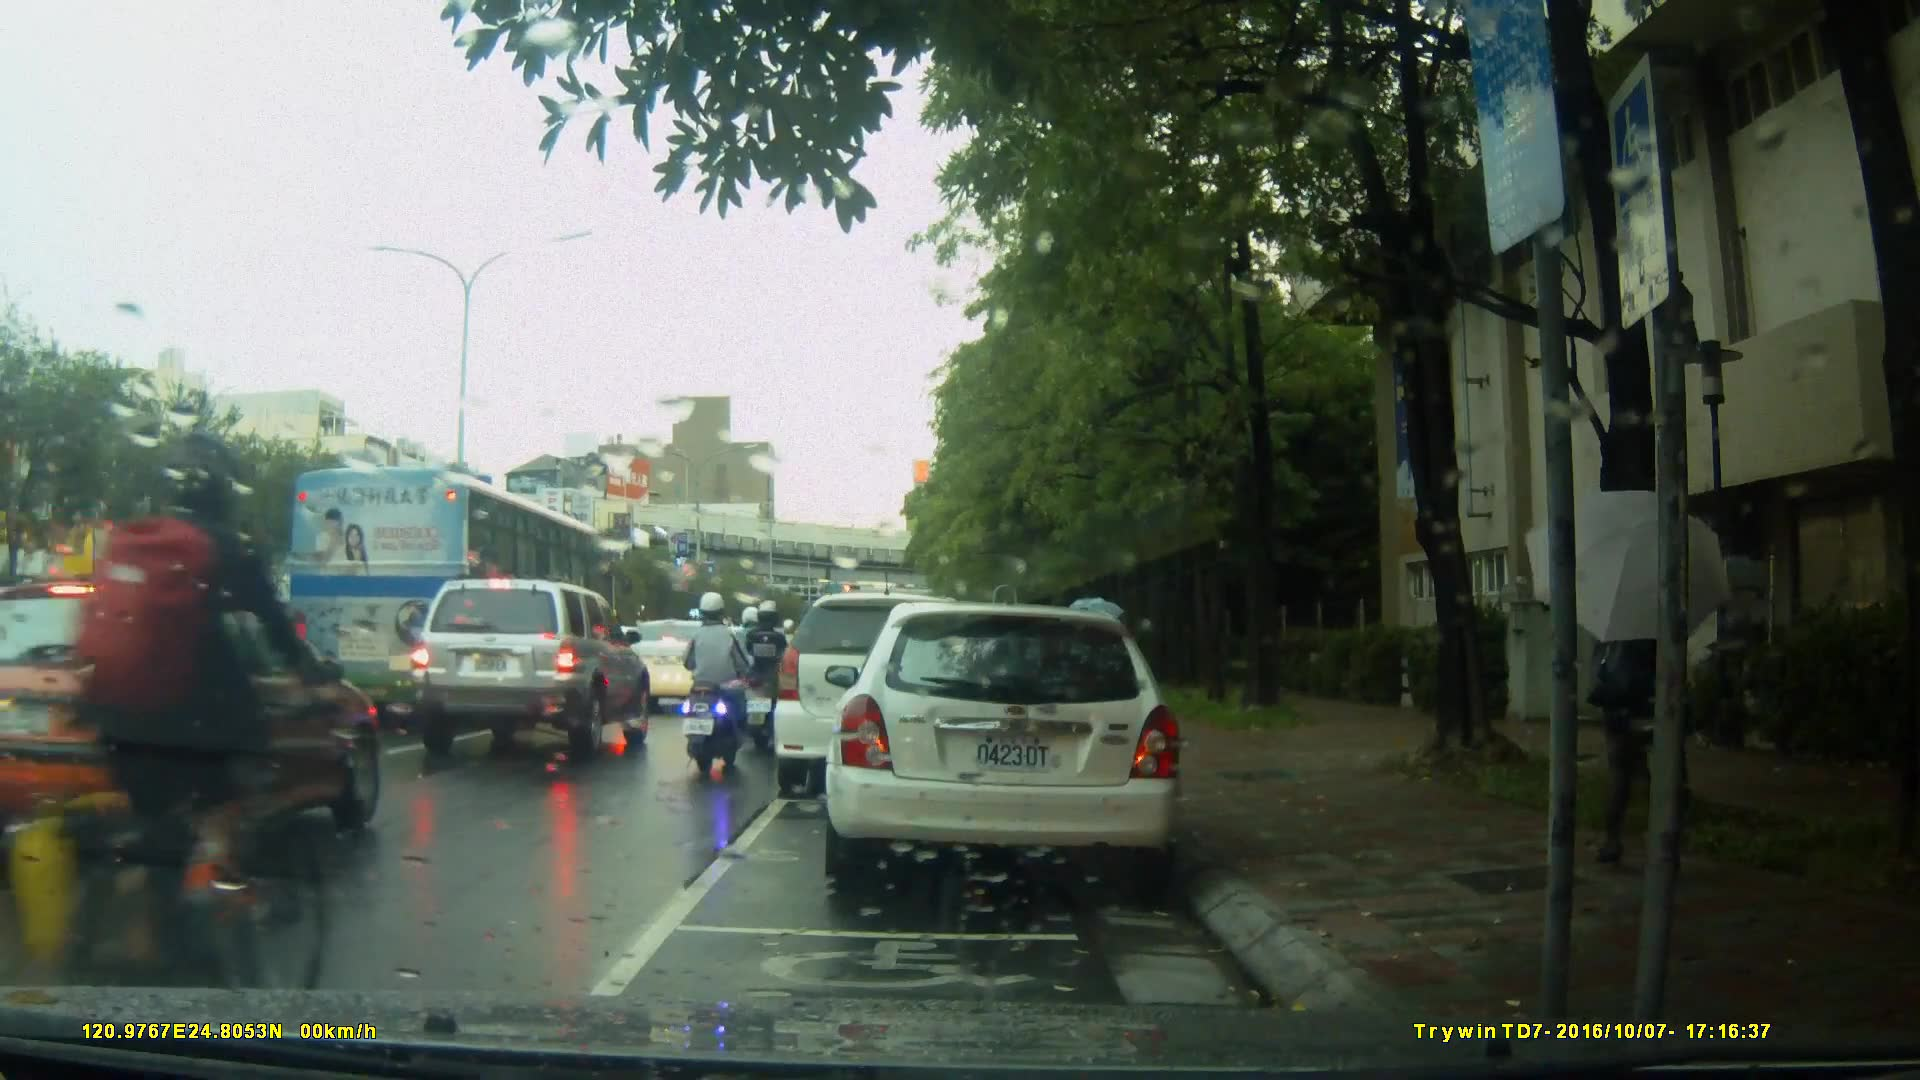pedestrian: (1602, 523, 1735, 890)
rider: (22, 436, 314, 1038), (677, 587, 750, 779), (739, 604, 797, 752), (728, 601, 777, 722)
vehicle: (1, 578, 385, 882), (835, 594, 1194, 898), (288, 466, 615, 740), (776, 590, 1026, 784), (403, 576, 655, 756)
